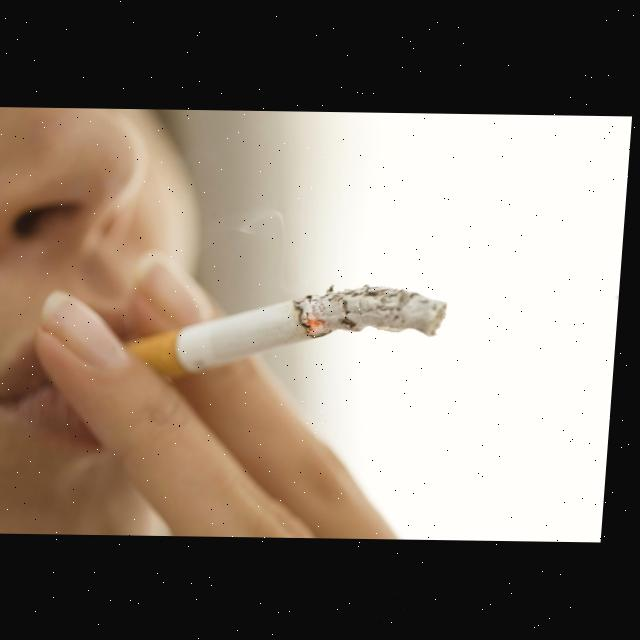cigarette: (126, 280, 454, 383)
